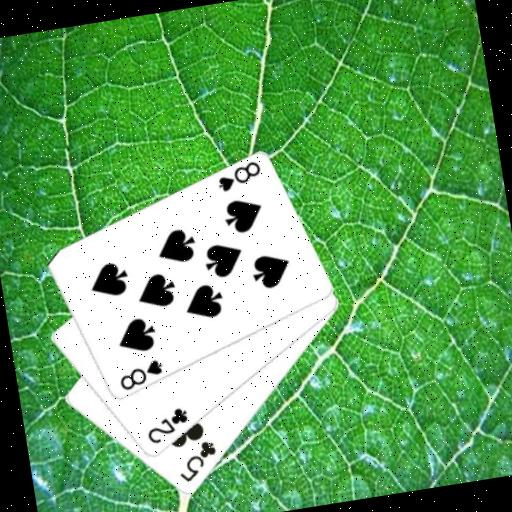2C: (141, 403, 193, 447)
5C: (172, 436, 223, 486)
8S: (113, 355, 166, 393), (211, 157, 264, 195)
